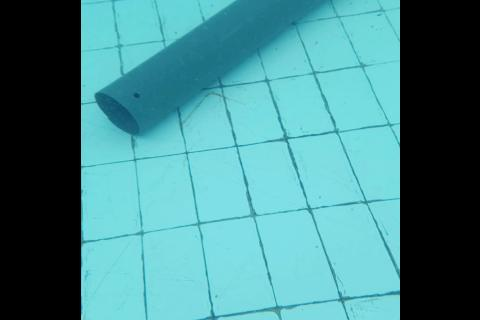kebocoran: (132, 92, 139, 99)
